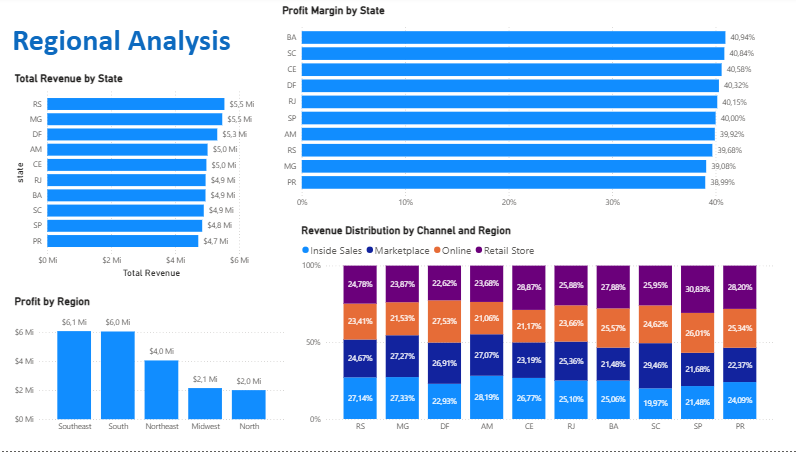

Layout of this report page (visuals, bound fields, positions):
{"tool":"powerbi","page":{"name":"Regional Analysis","canvas":[1280,720],"ordinal":3},"visuals":[{"type":"textbox","box":[19,34.2,406.2,85.4],"z":0},{"type":"columnChart","title":"Profit by Region","fields":{"Category":["dim_regions.region_name"],"Y":["fact_sales.Total Profit"]},"box":[22.8,472.6,436.5,227.8],"z":1000},{"type":"barChart","title":"Profit Margin by State","fields":{"Category":["dim_regions.state"],"Y":["fact_sales.Margin %"]},"box":[446,13.3,770.6,332.1],"z":2000},{"type":"hundredPercentStackedColumnChart","title":"Revenue Distribution by Channel and Region","fields":{"Category":["dim_regions.state"],"Y":["fact_sales.Total Revenue"],"Series":["dim_channels.channel_name"]},"box":[476.4,360.6,757.3,339.7],"z":3000},{"type":"barChart","title":"Total Revenue by State","fields":{"Category":["dim_regions.state"],"Y":["fact_sales.Total Revenue"]},"box":[22.8,119.6,406.2,330.2],"z":4000}]}

Visuals, with their boxes in screenshot pixels (x1, y1, x2, y2), scaled from the page's 1280x720 canvas onto the 796x452 screenshot:
textbox: (12, 21, 264, 75)
"Profit by Region" columnChart: (14, 297, 286, 440)
"Profit Margin by State" barChart: (277, 8, 757, 217)
"Revenue Distribution by Channel and Region" hundredPercentStackedColumnChart: (296, 226, 767, 440)
"Total Revenue by State" barChart: (14, 75, 267, 282)
